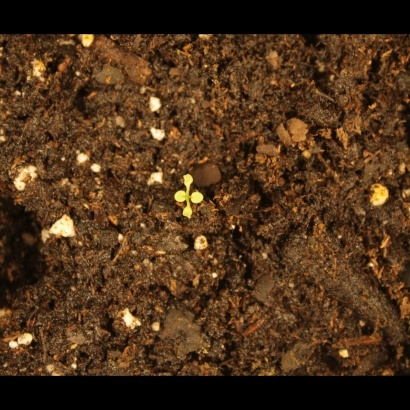leaf: (192, 181, 221, 212), (173, 160, 201, 191), (176, 205, 199, 228), (165, 188, 188, 211)
